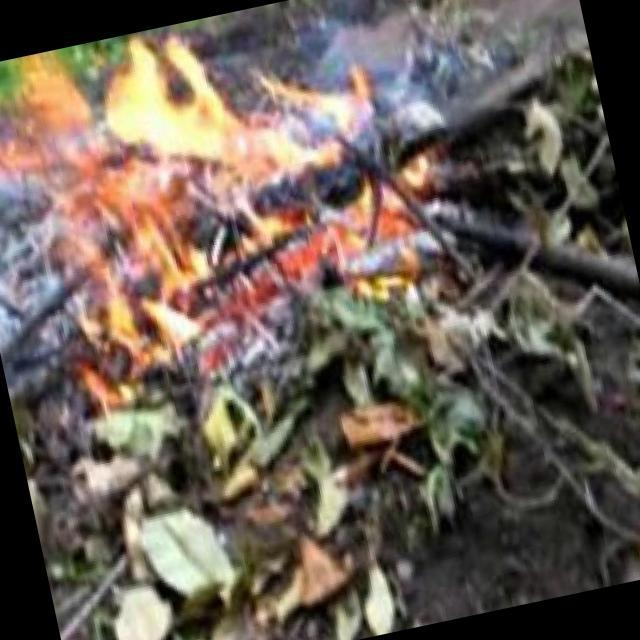Fire: (1, 1, 455, 342)
